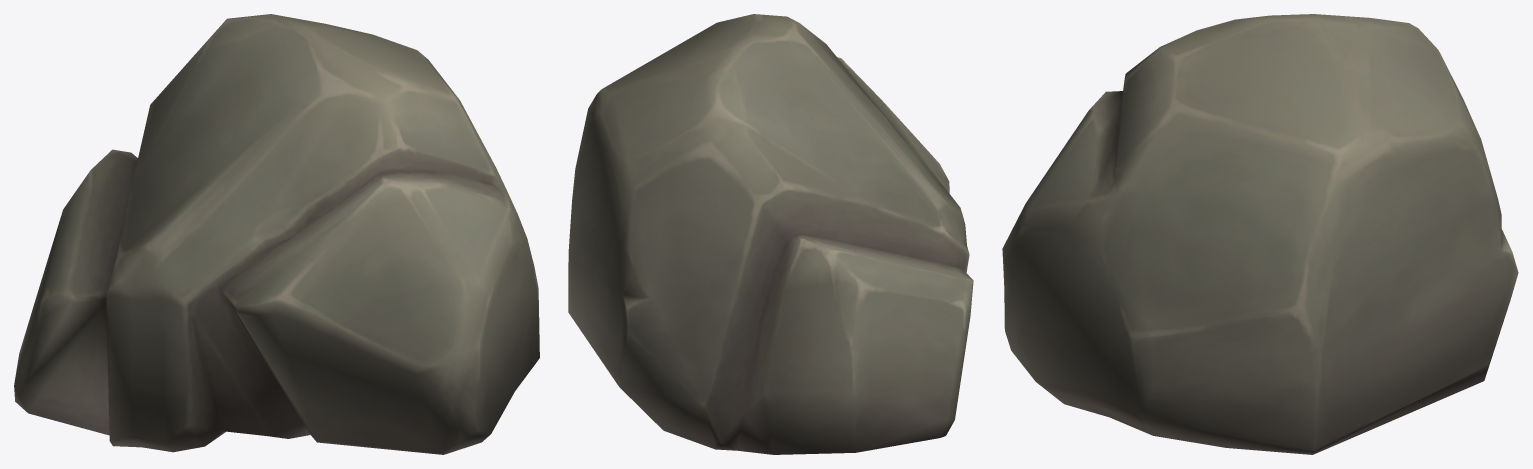
Rendered from SM_Rock_3.FBX.
3 renders of one model, left to right at view 1: azimuth 30°, elevation 25°; view 2: azimuth 150°, elevation 25°; view 3: azimuth 270°, elevation 25°, orthographic. The views are drawn at different scales.
Visible parts, largest first — view 1: Rock 3; view 2: Rock 3; view 3: Rock 3.
Part boxes in pixels (left/top/right/bottom): Rock 3: left=14, top=14, right=539, bottom=454; Rock 3: left=568, top=14, right=973, bottom=454; Rock 3: left=1002, top=14, right=1518, bottom=454.
Size of the model in its own units: 99.94 by 77.99 by 97.51.
